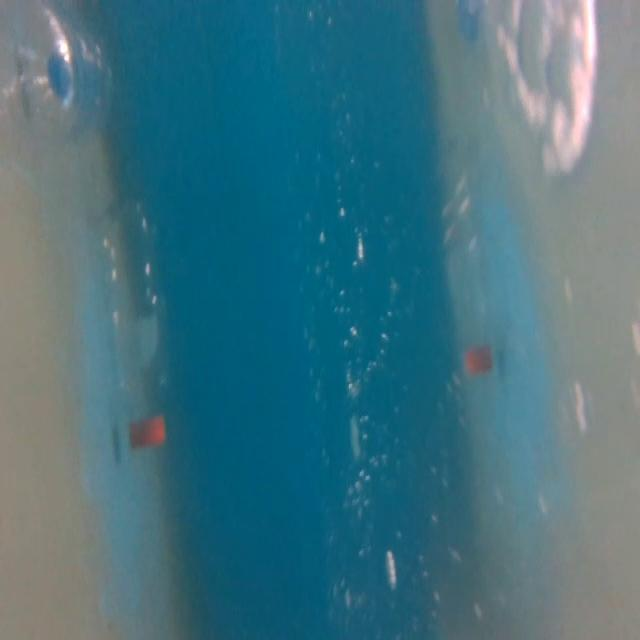plastic bottle: (90, 188, 184, 454)
